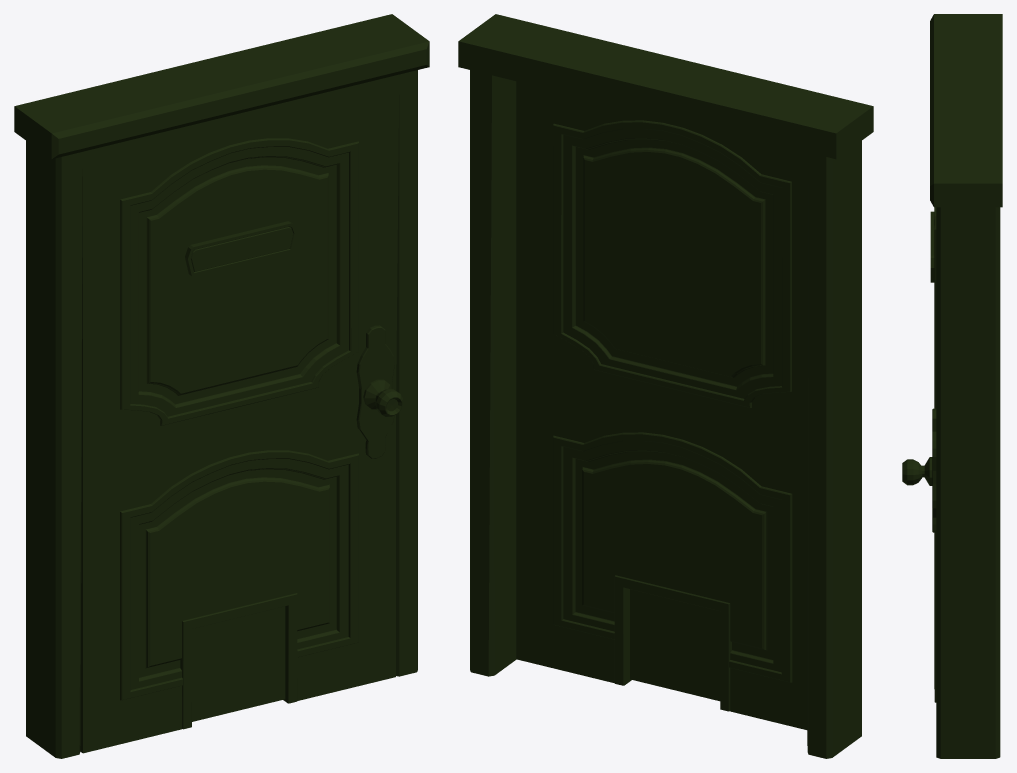
The model's file is MSG_BGLR_Door_Rm.FBX.
3 renders of one model, left to right at view 1: azimuth 30°, elevation 25°; view 2: azimuth 150°, elevation 25°; view 3: azimuth 270°, elevation 25°, orthographic. The views are drawn at different scales.
Visible parts, largest first — view 1: Object234, Object233, Object235; view 2: Object234, Object233, Object235; view 3: Object233, Object234.
Part boxes in pixels (left/top/right/bottom): Object234: left=80, top=75, right=402, bottom=753; Object233: left=14, top=14, right=429, bottom=758; Object235: left=192, top=606, right=285, bottom=721; Object234: left=516, top=81, right=807, bottom=729; Object233: left=458, top=14, right=873, bottom=758; Object235: left=630, top=589, right=720, bottom=701; Object233: left=930, top=14, right=1002, bottom=758; Object234: left=902, top=207, right=936, bottom=702.
Size of the model in its own units: 229 by 365 by 57.32.
